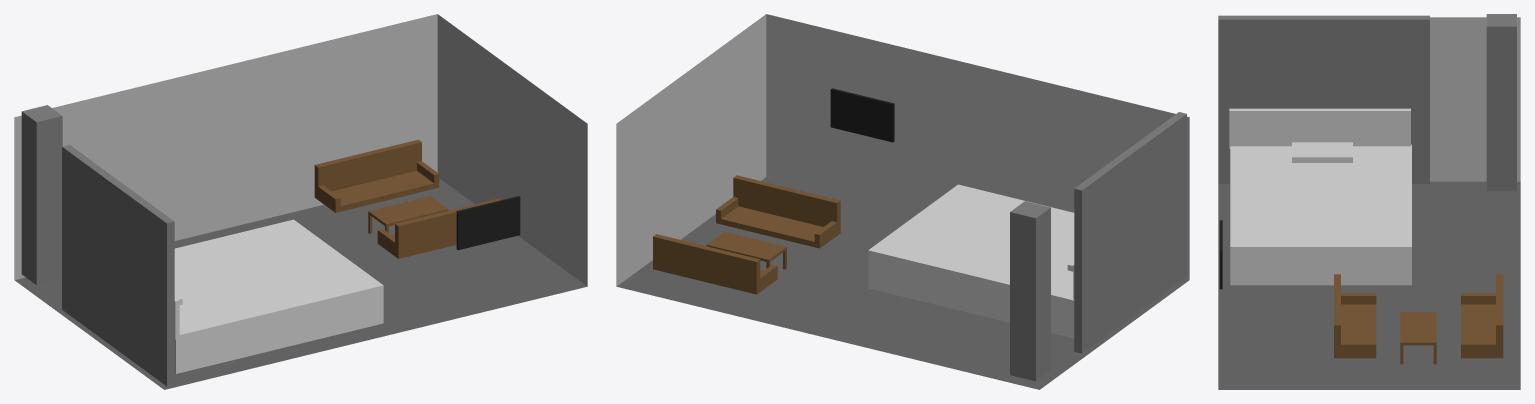
Rendered from nochairroom.glb.
3 renders of one model, left to right at view 1: azimuth 30°, elevation 25°; view 2: azimuth 150°, elevation 25°; view 3: azimuth 270°, elevation 25°, orthographic.
Visible parts, largest first — view 1: walls, floor, Bed, partition_a, Sofa, pillar_zone1, led_tv; view 2: walls, floor, partition_a, Bed, Sofa, pillar_zone1, led_tv; view 3: floor, Bed, partition_a, walls, Sofa, BedHead, pillar_zone1, Pillow, led_tv.
Boxes of the visible parts, bbox=[...] form: walls: bbox=[14, 14, 587, 286]; floor: bbox=[15, 178, 587, 389]; Bed: bbox=[174, 219, 383, 373]; partition_a: bbox=[62, 145, 174, 386]; Sofa: bbox=[314, 139, 500, 258]; pillar_zone1: bbox=[21, 105, 62, 285]; led_tv: bbox=[456, 196, 520, 250]; walls: bbox=[616, 14, 1189, 286]; floor: bbox=[616, 177, 1188, 389]; partition_a: bbox=[1074, 112, 1186, 353]; Bed: bbox=[868, 184, 1074, 338]; Sofa: bbox=[653, 175, 840, 294]; pillar_zone1: bbox=[1010, 201, 1050, 381]; led_tv: bbox=[830, 88, 894, 142]; floor: bbox=[1218, 181, 1520, 389]; Bed: bbox=[1230, 144, 1411, 285]; partition_a: bbox=[1218, 15, 1429, 183]; walls: bbox=[1430, 17, 1520, 181]; Sofa: bbox=[1334, 274, 1503, 364]; BedHead: bbox=[1229, 108, 1410, 149]; pillar_zone1: bbox=[1486, 14, 1516, 191]; Pillow: bbox=[1292, 142, 1352, 162]; led_tv: bbox=[1219, 220, 1222, 289].
Bounding box in the file's own units: 8.15 × 3.11 × 5.
